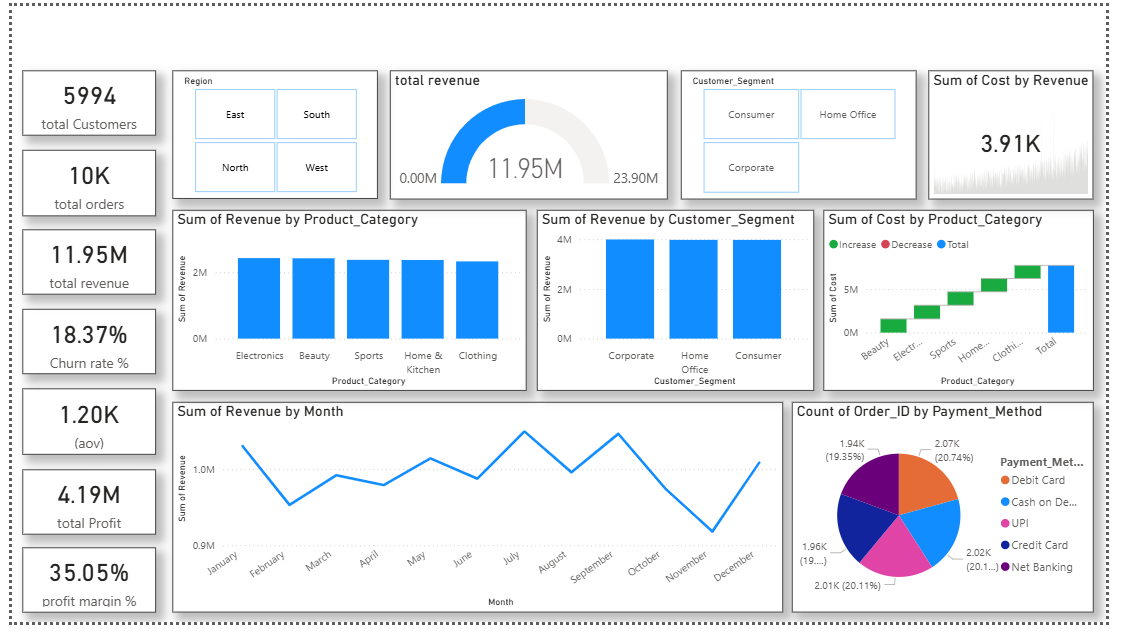

What the dashboard file says about the page in this screenshot:
{"tool":"powerbi","page":{"name":"Executive Dashboard","canvas":[1280,720],"ordinal":0},"visuals":[{"type":"card","fields":{"Values":["Business_Analytics_Dataset_1000.average order value (aov)"]},"box":[732.6,93.3,169.6,78.3],"z":2},{"type":"card","fields":{"Values":["Business_Analytics_Dataset_1000.total Profit"]},"box":[925.7,94.7,156.1,77.2],"z":5},{"type":"card","fields":{"Values":["Business_Analytics_Dataset_1000.total Customers"]},"box":[20.4,94.7,156.1,75.4],"z":6},{"type":"card","fields":{"Values":["Business_Analytics_Dataset_1000.total orders"]},"box":[200,95.5,156.5,76.1],"z":7},{"type":"card","fields":{"Values":["Business_Analytics_Dataset_1000.profit margin %"]},"box":[1102.9,94.7,156.1,77.2],"z":8},{"type":"card","fields":{"Values":["Customer Summary.Churn rate %"]},"box":[558.7,93.3,154.3,78.3],"z":9},{"type":"card","fields":{"Values":["Business_Analytics_Dataset_1000.total revenue"]},"box":[378.3,93.3,160.9,78.3],"z":10},{"type":"lineChart","fields":{"Y":["Sum(Business_Analytics_Dataset_1000.Revenue)"],"Category":["Business_Analytics_Dataset_1000.order year-month.Variation.Date Hierarchy.Month"]},"box":[20.4,186.7,714,245.6],"z":11},{"type":"columnChart","fields":{"Category":["Business_Analytics_Dataset_1000.Product_Category"],"Y":["Sum(Business_Analytics_Dataset_1000.Revenue)"]},"box":[753.8,186.7,505.3,245.6],"z":12},{"type":"columnChart","fields":{"Category":["Business_Analytics_Dataset_1000.Customer_Segment"],"Y":["Sum(Business_Analytics_Dataset_1000.Revenue)"]},"box":[18.8,443.5,334.8,267.4],"z":15},{"type":"columnChart","fields":{"Category":["Business_Analytics_Dataset_1000.Region"],"Y":["Sum(Business_Analytics_Dataset_1000.Revenue)"]},"box":[373.9,443.5,358.7,267.4],"z":16},{"type":"textbox","title":"Executive Insights - FY 2024 performance","box":[751.4,443.5,506.5,267.4],"z":17},{"type":"textbox","title":"RETAIL BUSINESS PERFORMANCE OPTIMIZATION","box":[17.4,0,1241.3,84.8],"z":18}]}

Visuals, with their boxes in screenshot pixels (x1, y1, x2, y2), scaled from the page's 1280x720 canvas onto the 1127x633 screenshot:
card - Business_Analytics_Dataset_1000.average order value (aov): <region>645, 82, 794, 151</region>
card - Business_Analytics_Dataset_1000.total Profit: <region>815, 83, 952, 151</region>
card - Business_Analytics_Dataset_1000.total Customers: <region>18, 83, 155, 150</region>
card - Business_Analytics_Dataset_1000.total orders: <region>176, 84, 314, 151</region>
card - Business_Analytics_Dataset_1000.profit margin %: <region>971, 83, 1109, 151</region>
card - Customer Summary.Churn rate %: <region>492, 82, 628, 151</region>
card - Business_Analytics_Dataset_1000.total revenue: <region>333, 82, 475, 151</region>
lineChart - Sum(Business_Analytics_Dataset_1000.Revenue) x Business_Analytics_Dataset_1000.order year-month.Variation.Date Hierarchy.Month: <region>18, 164, 647, 380</region>
columnChart - Business_Analytics_Dataset_1000.Product_Category x Sum(Business_Analytics_Dataset_1000.Revenue): <region>664, 164, 1109, 380</region>
columnChart - Business_Analytics_Dataset_1000.Customer_Segment x Sum(Business_Analytics_Dataset_1000.Revenue): <region>17, 390, 311, 625</region>
columnChart - Business_Analytics_Dataset_1000.Region x Sum(Business_Analytics_Dataset_1000.Revenue): <region>329, 390, 645, 625</region>
"Executive Insights - FY 2024 performance" textbox: <region>662, 390, 1108, 625</region>
"RETAIL BUSINESS PERFORMANCE OPTIMIZATION" textbox: <region>15, 0, 1108, 75</region>
